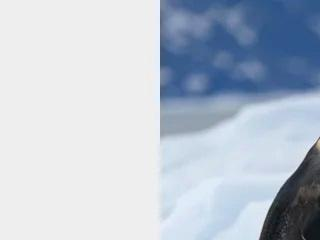Emperor Penguin: (218, 82, 320, 240)
